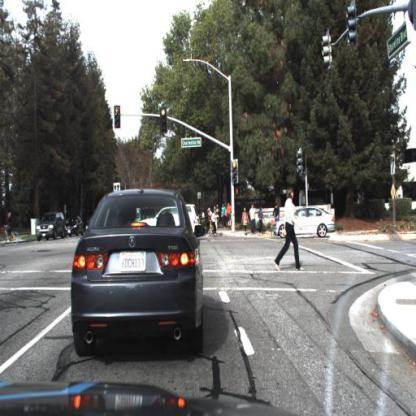biker: (1, 213, 22, 251), (206, 206, 220, 237), (271, 201, 283, 230), (272, 203, 282, 224)
car: (70, 185, 208, 360), (269, 204, 341, 239), (35, 209, 67, 243), (186, 195, 203, 238), (66, 212, 85, 239), (66, 215, 85, 236)
pedestrian: (273, 183, 307, 275), (273, 184, 307, 275), (249, 204, 257, 240), (257, 204, 265, 239), (242, 204, 250, 237), (227, 201, 233, 231)
trafficLight-Red: (159, 105, 168, 135), (231, 159, 241, 186)
trafficLight-RedLeft: (113, 103, 122, 130)
